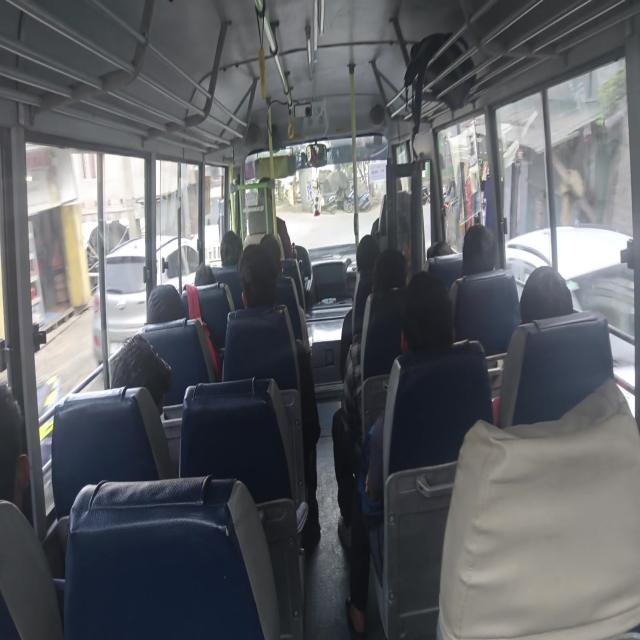person: (345, 270, 493, 637), (222, 242, 321, 542), (332, 247, 408, 548), (340, 233, 380, 379), (110, 332, 172, 417), (0, 382, 30, 511), (519, 264, 574, 324), (460, 223, 498, 276), (146, 283, 186, 323), (220, 230, 242, 268), (194, 262, 216, 286)
